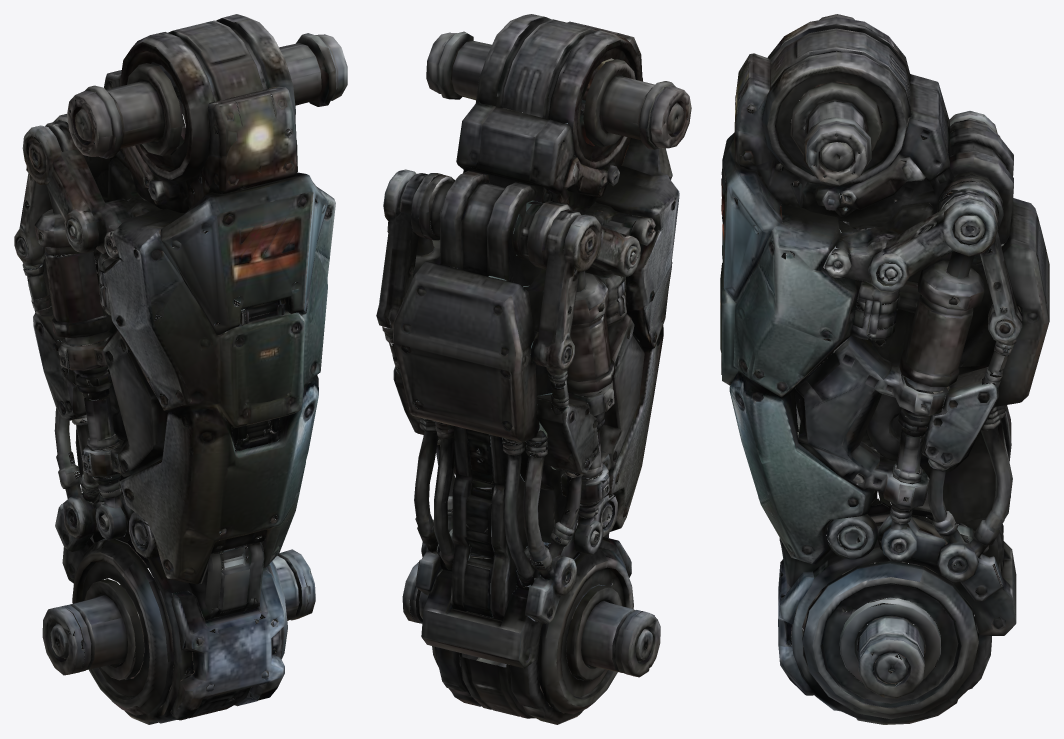
The model's file is thigh.glb.
3 renders of one model, left to right at view 1: azimuth 30°, elevation 25°; view 2: azimuth 150°, elevation 25°; view 3: azimuth 270°, elevation 25°, orthographic. The views are drawn at different scales.
Parts seen in each view (by area): view 1: tripo_part_0; view 2: tripo_part_0; view 3: tripo_part_0.
Boxes of the visible parts, <box> form: tripo_part_0: <box>14,14,347,724</box>; tripo_part_0: <box>376,14,691,724</box>; tripo_part_0: <box>720,14,1049,724</box>.
Bounding box in the file's own units: 0.3681 × 0.9807 × 0.4389.
1 material, 1 textured.
